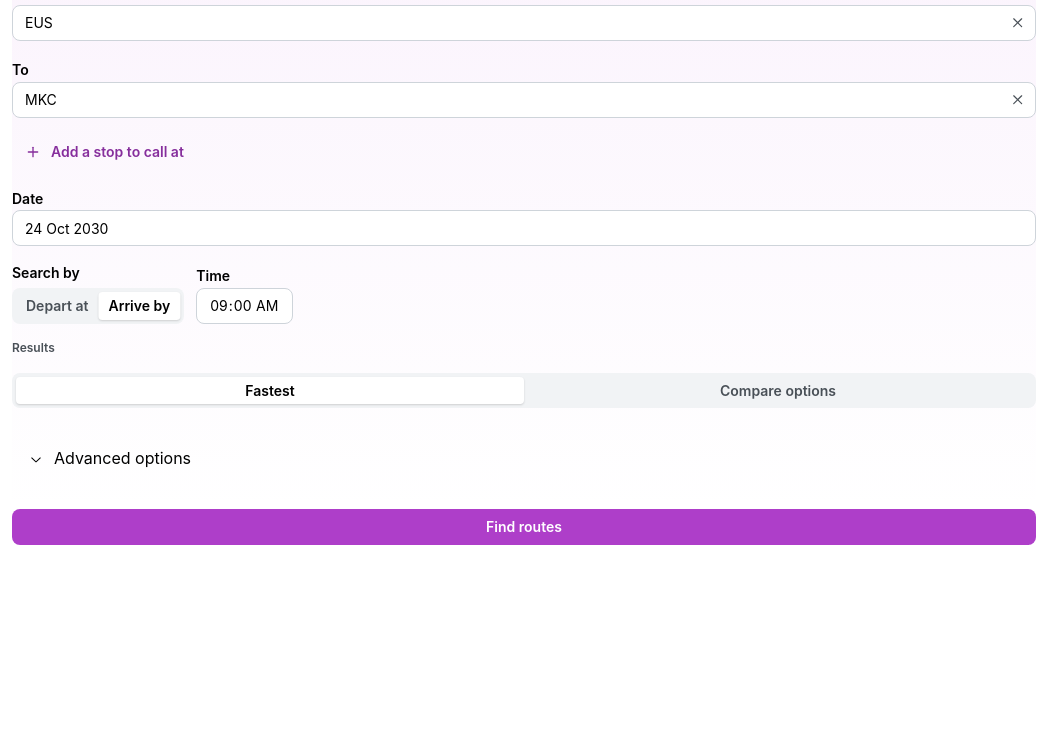
PlanTripFlow arrive-by and paging (2026-10-19) › says when there is nothing earlier on this day, and keeps what is shown
Click the button "Find routes" at (524, 527), box [12, 509, 1036, 545]
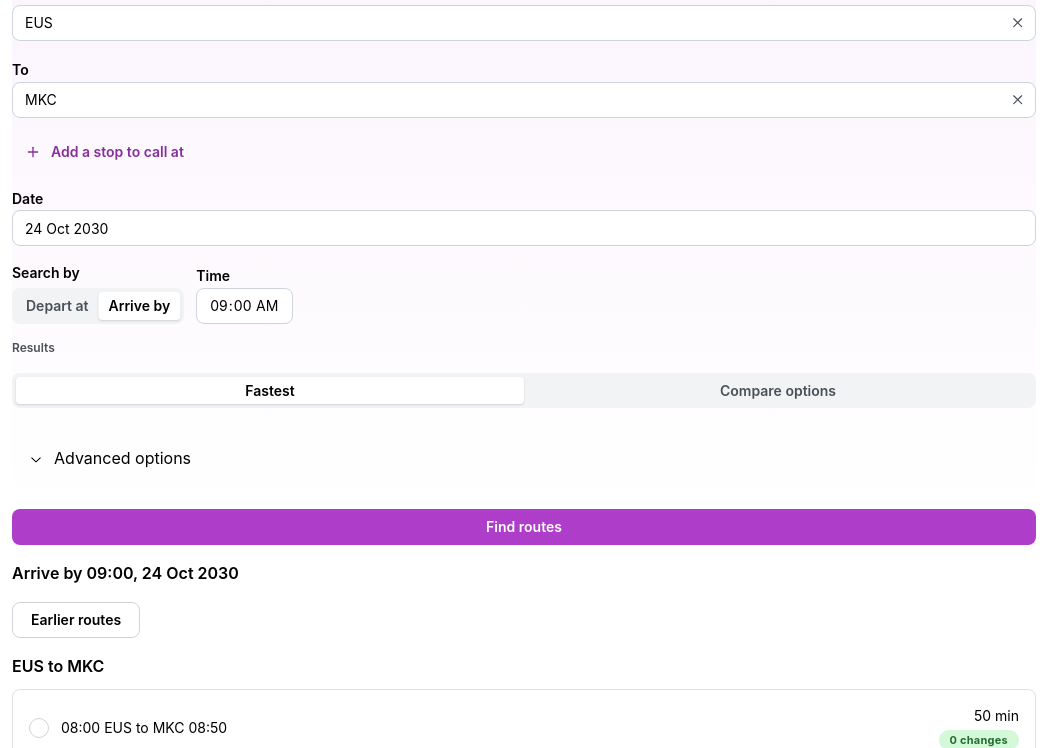
Click the button "Earlier routes" at (76, 620), box [12, 602, 140, 638]
(page scrolled)
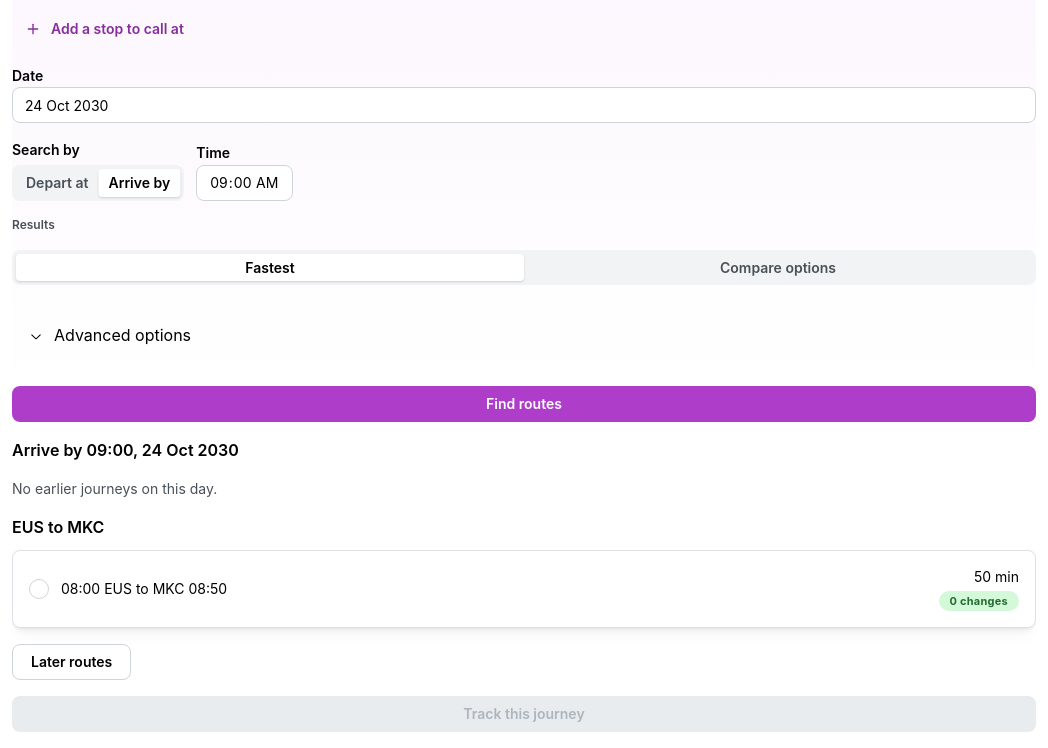
Now the button "Later routes" is enabled, box [12, 644, 131, 680]
Now the text "No earlier journeys on this day." is shown, box [12, 480, 217, 497]
Now the button "Earlier routes" is gone
